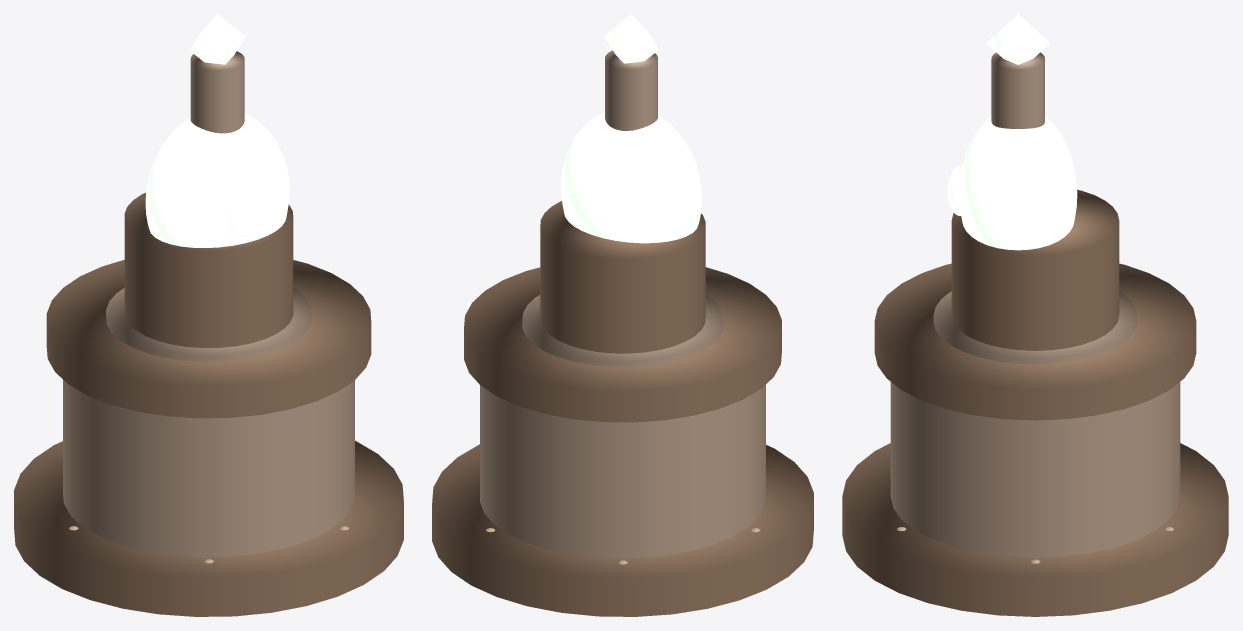
The model's file is poison_l3.glb.
3 renders of one model, left to right at view 1: azimuth 30°, elevation 25°; view 2: azimuth 150°, elevation 25°; view 3: azimuth 270°, elevation 25°, orthographic. The views are drawn at different scales.
Visible parts, largest first — view 1: base, footing, baseCollar, shaft, vial, lowerTrim, neck, cap, ember; view 2: base, footing, baseCollar, shaft, vial, lowerTrim, neck, cap; view 3: base, footing, baseCollar, shaft, vial, lowerTrim, neck, cap, ember.
Boxes of the visible parts, bbox=[...] form: base: bbox=[63, 380, 354, 556]; footing: bbox=[14, 440, 403, 616]; baseCollar: bbox=[46, 260, 371, 418]; shaft: bbox=[124, 192, 293, 347]; vial: bbox=[145, 114, 289, 247]; lowerTrim: bbox=[106, 288, 311, 361]; neck: bbox=[190, 51, 244, 133]; cap: bbox=[189, 14, 245, 64]; ember: bbox=[227, 190, 266, 238]; base: bbox=[480, 384, 765, 558]; footing: bbox=[432, 444, 813, 616]; baseCollar: bbox=[464, 267, 781, 422]; shaft: bbox=[540, 201, 705, 353]; vial: bbox=[560, 111, 702, 243]; lowerTrim: bbox=[522, 295, 723, 366]; neck: bbox=[605, 50, 657, 130]; cap: bbox=[604, 14, 658, 63]; base: bbox=[890, 382, 1180, 557]; footing: bbox=[842, 443, 1228, 616]; baseCollar: bbox=[874, 263, 1196, 420]; shaft: bbox=[951, 189, 1119, 350]; vial: bbox=[961, 116, 1077, 250]; lowerTrim: bbox=[933, 291, 1137, 364]; neck: bbox=[991, 52, 1044, 128]; cap: bbox=[986, 14, 1050, 64]; ember: bbox=[947, 166, 962, 215].
Size of the model in its own units: 1.8 by 2.68 by 1.8.
